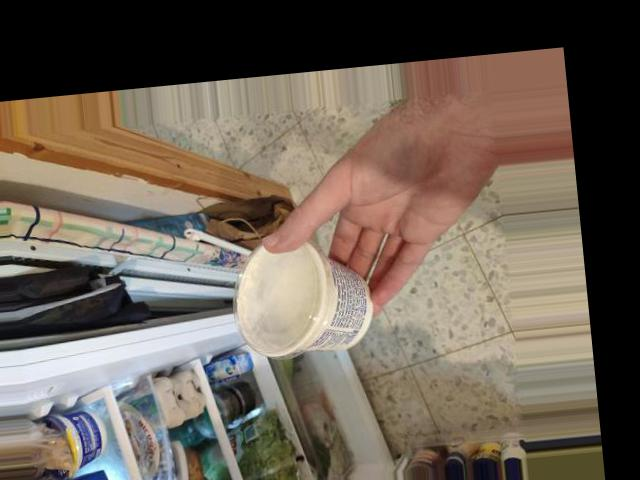cotage: (246, 229, 370, 352)
